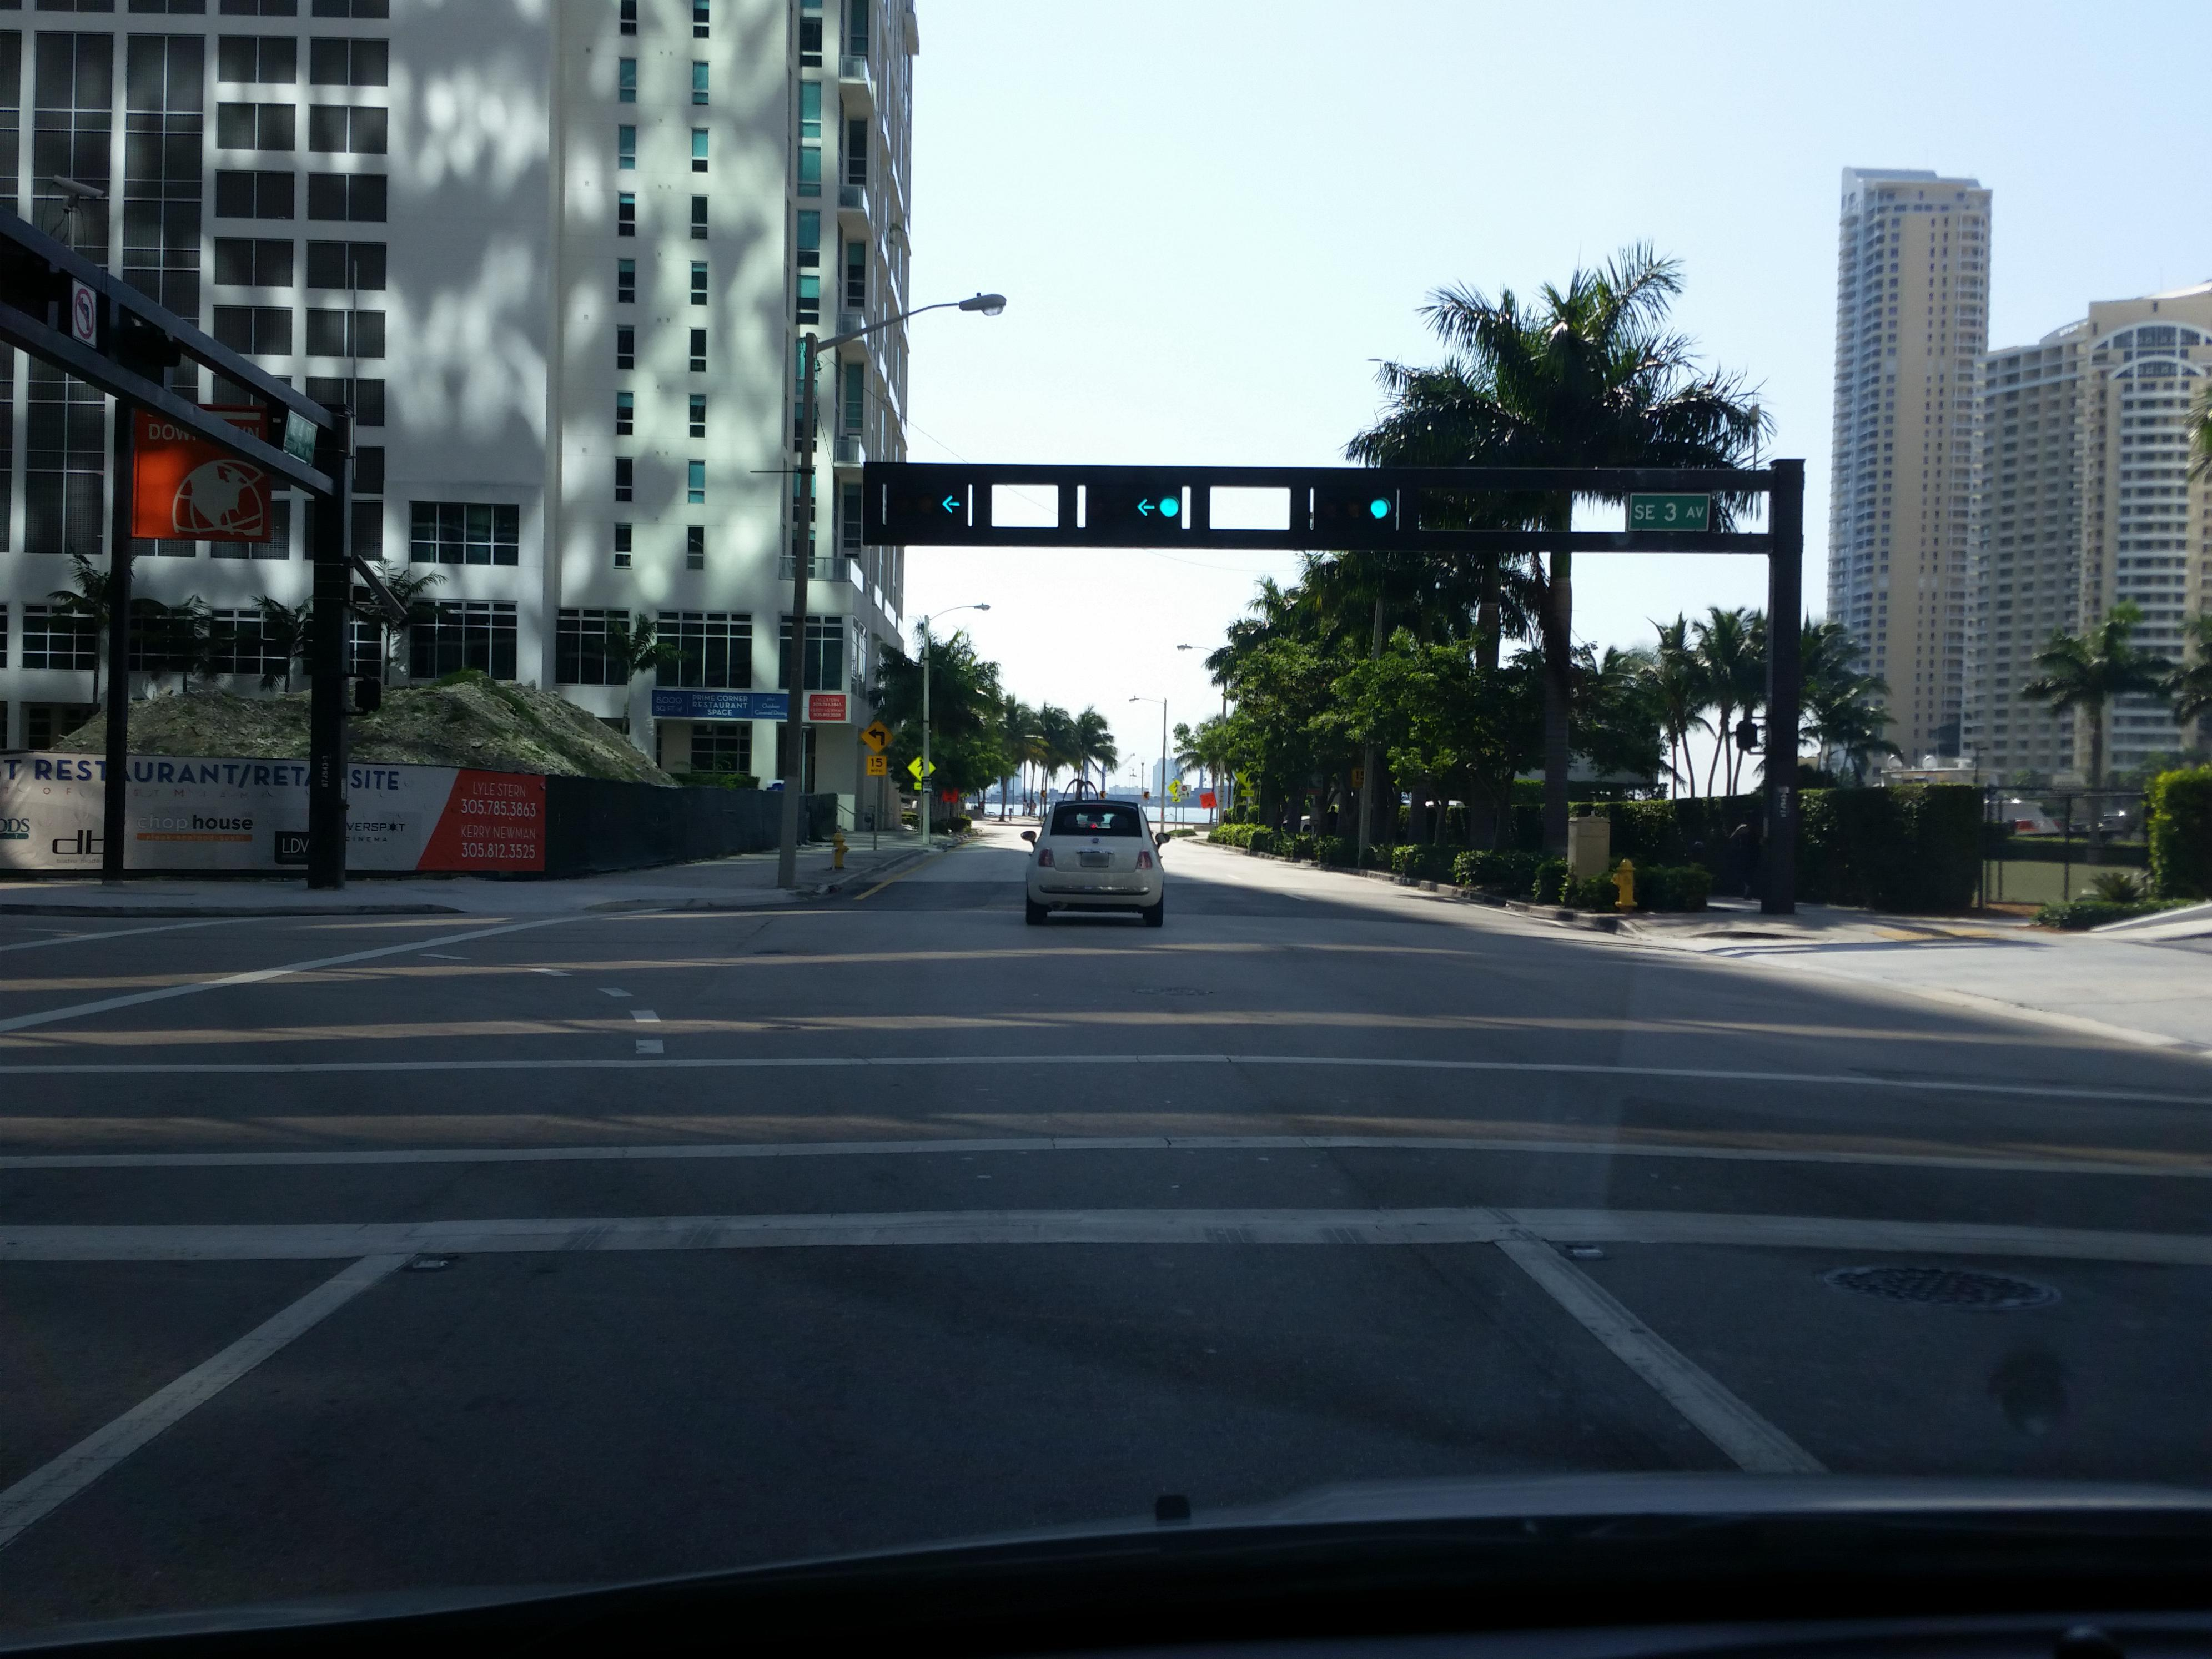vinyl banner: (0, 730, 564, 899)
